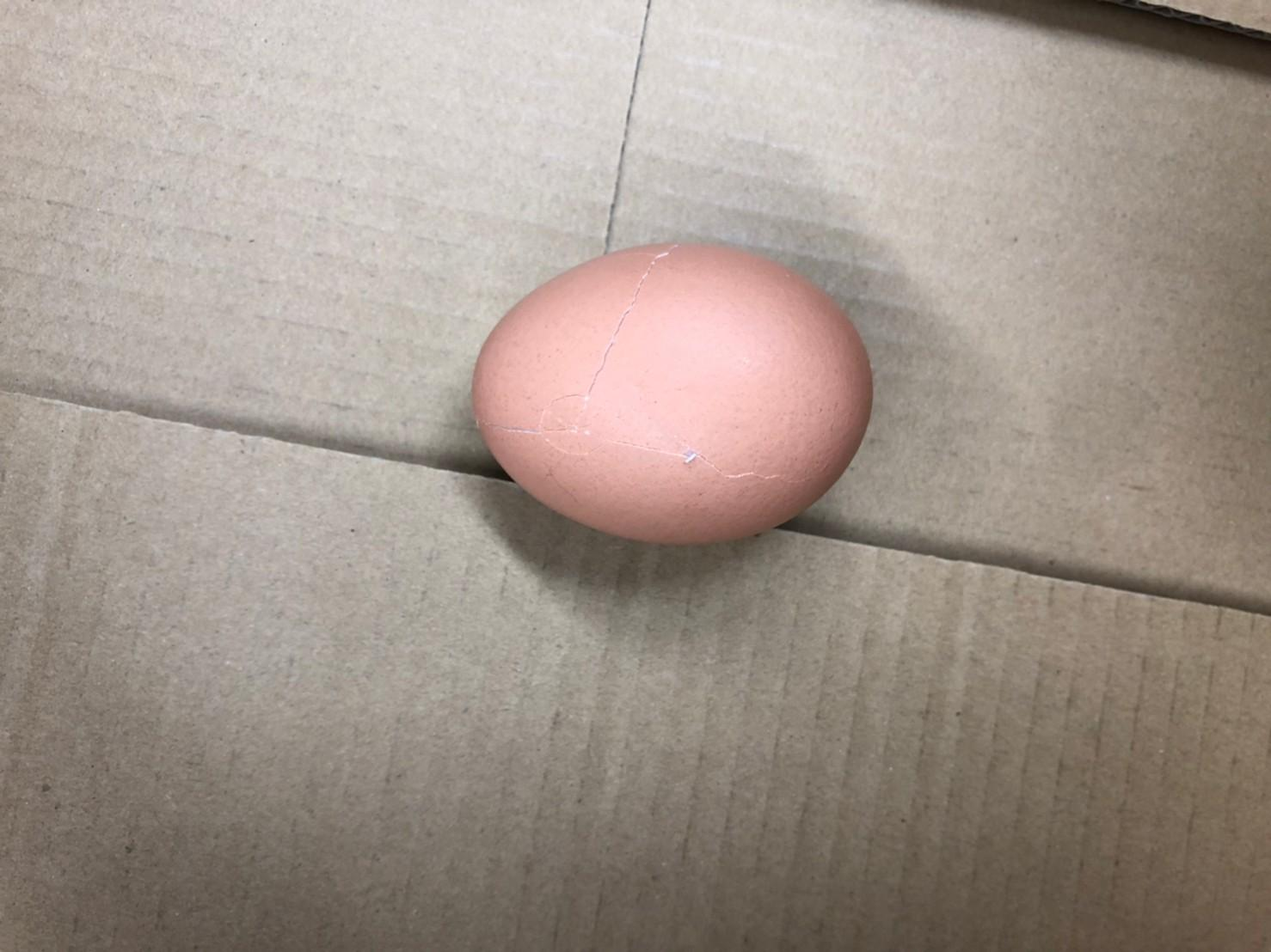egg: (464, 237, 878, 546)
